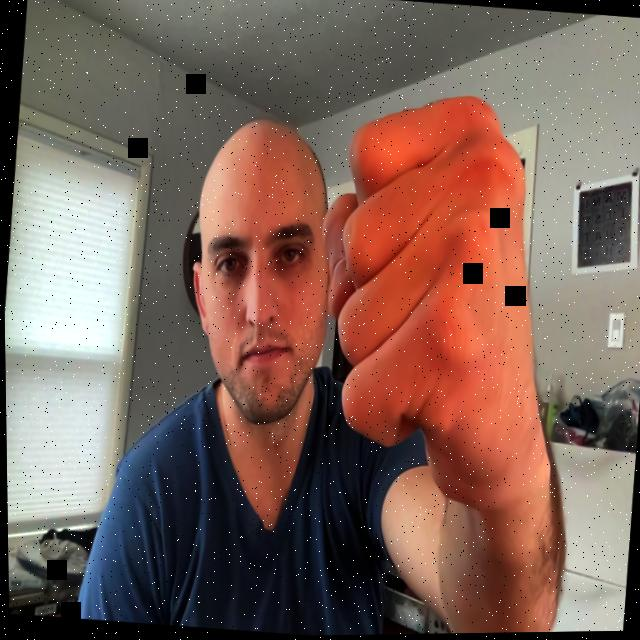Rock: (318, 82, 571, 520)
